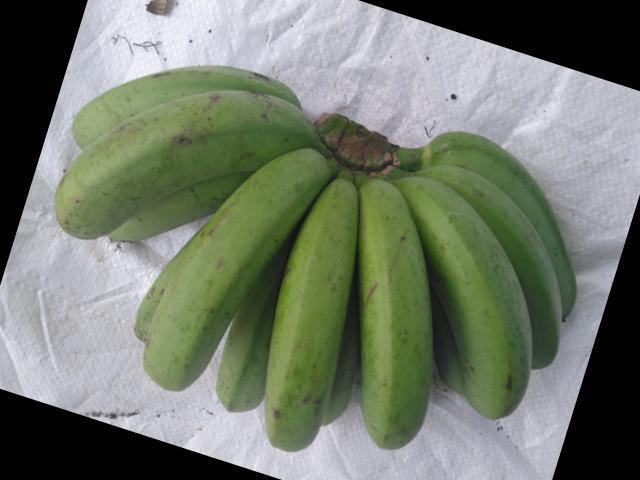unripe: (125, 128, 315, 385), (35, 83, 299, 235), (415, 170, 532, 433), (260, 169, 361, 468), (352, 168, 436, 455), (52, 53, 263, 157)
